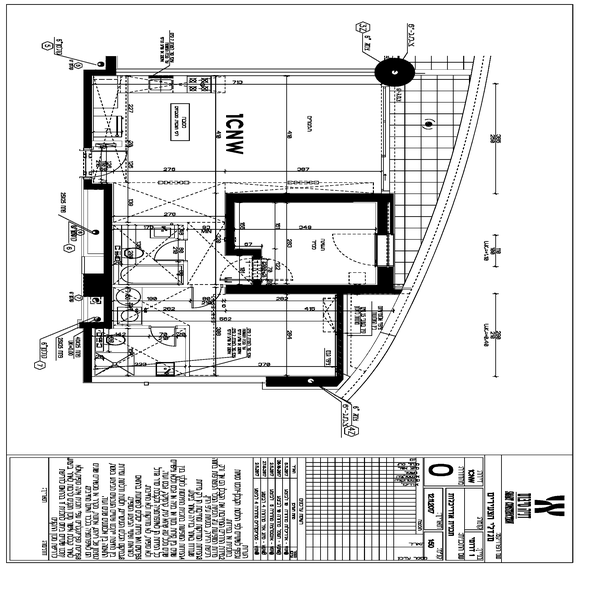door: (321, 224, 395, 271), (216, 246, 270, 286), (155, 239, 189, 265), (146, 318, 177, 346)
room: (214, 194, 403, 309)
wall: (225, 190, 395, 208), (226, 279, 402, 294), (99, 180, 116, 327), (332, 289, 350, 384), (259, 368, 348, 386), (82, 68, 100, 147), (219, 200, 242, 254), (371, 196, 397, 240), (82, 321, 100, 379)
